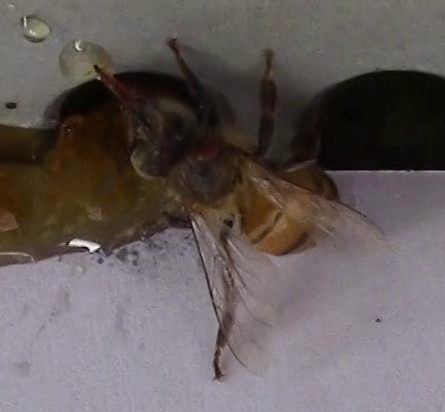Varroa destructor: (192, 135, 225, 160)
